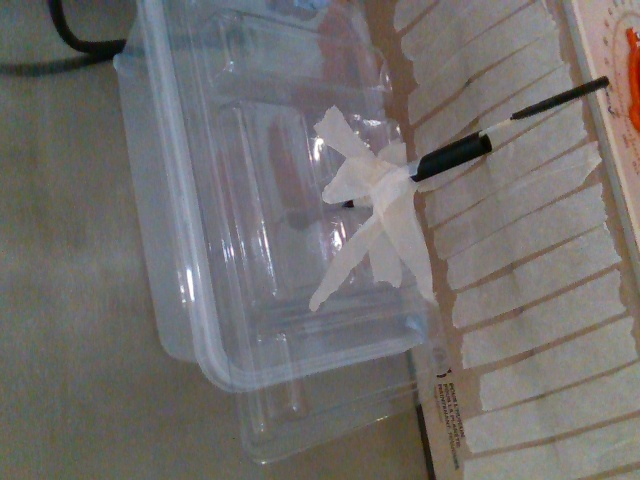test_strip: (478, 77, 606, 137)
